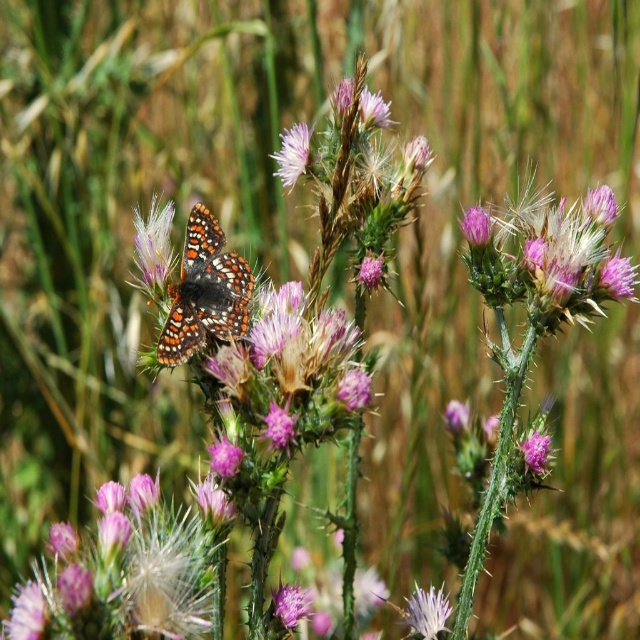Butterfly: (156, 202, 254, 367)
